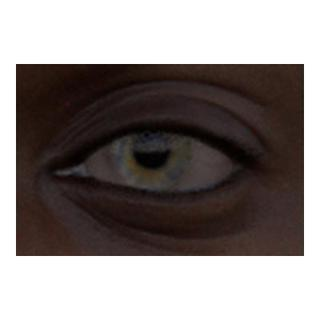pupil: (134, 133, 168, 168)
